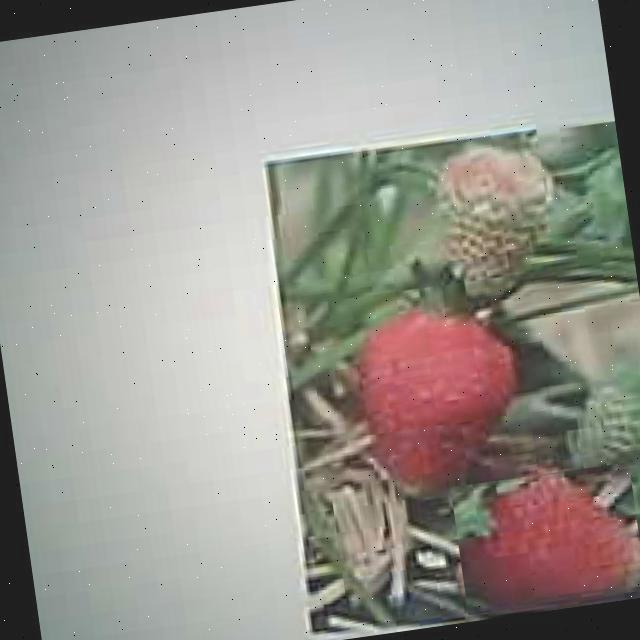ripe: (354, 299, 531, 495), (451, 462, 640, 615)
